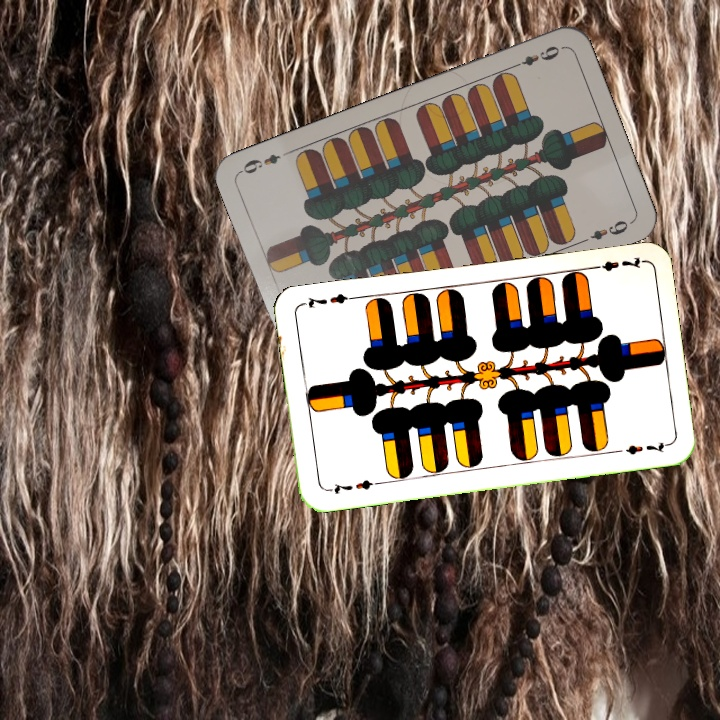E7: (586, 252, 645, 274), (323, 475, 382, 496)
E9: (508, 41, 565, 71)
